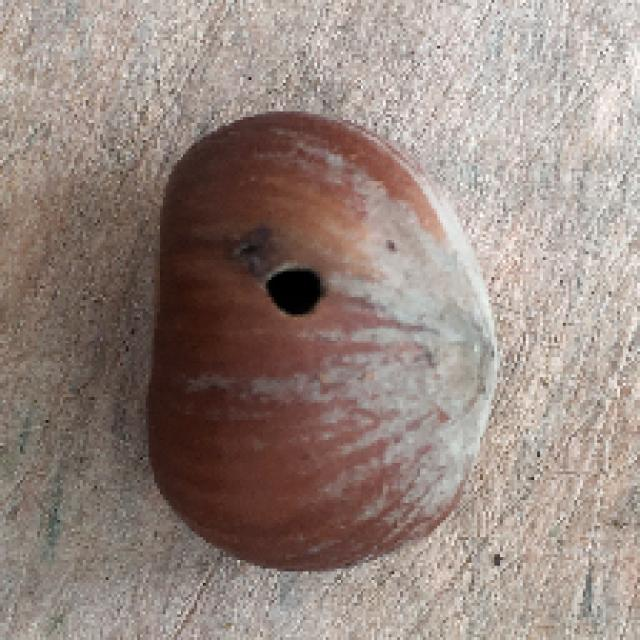damagedHazelnut: (125, 90, 508, 592)
